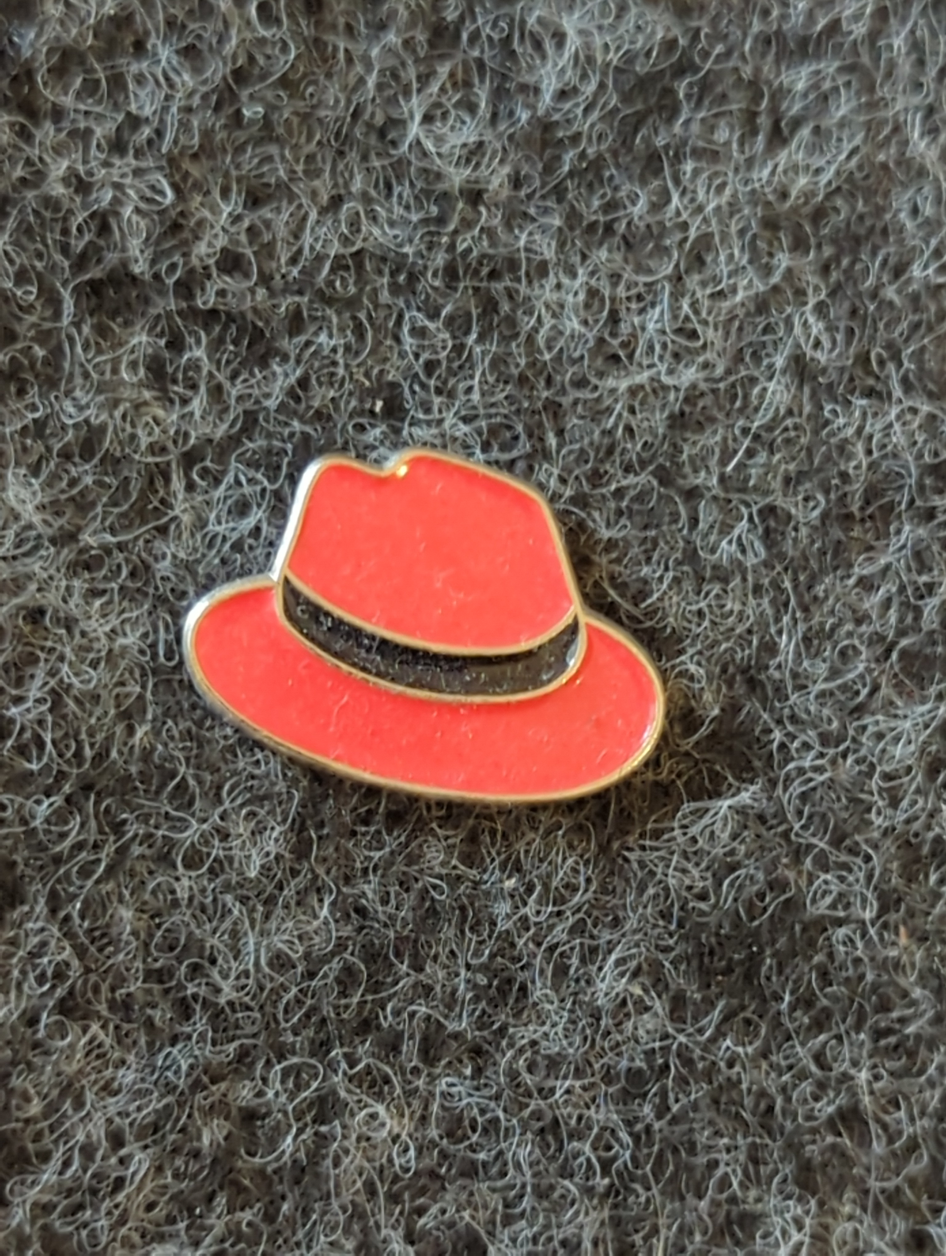Red-Hat: (98, 371, 830, 943)
